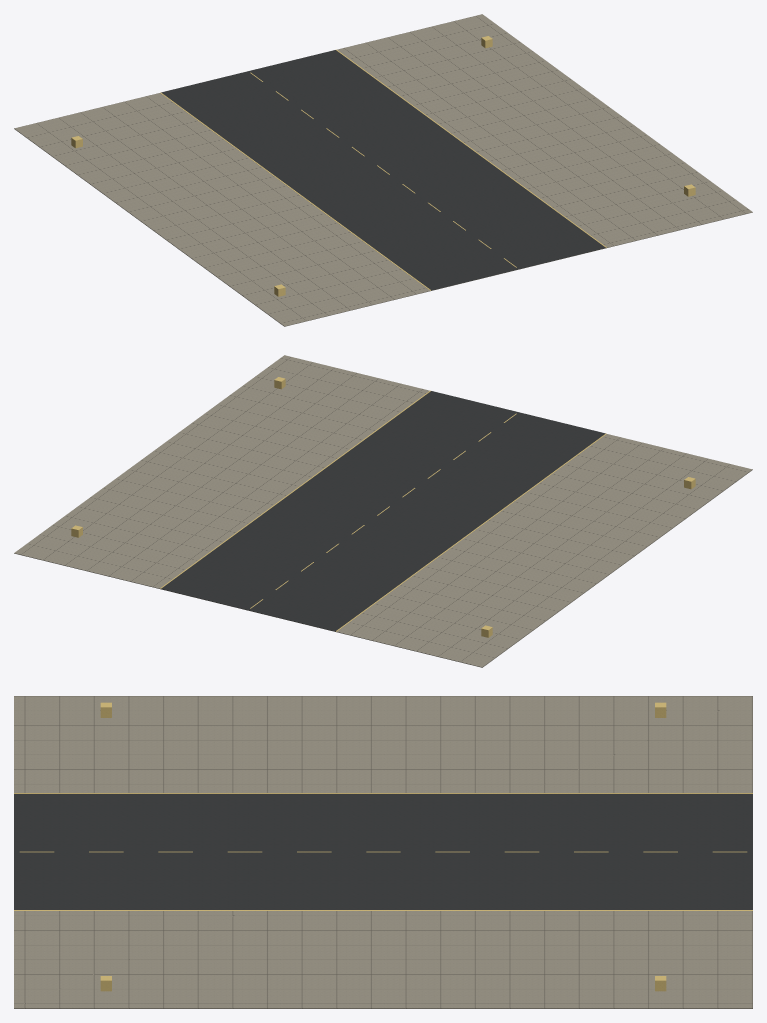
Rendered from industrial_0_-13.glb.
The picture shows the model from 3 angles, top to bottom: view 1: azimuth 30°, elevation 25°; view 2: azimuth 150°, elevation 25°; view 3: azimuth 270°, elevation 25°; orthographic projection. The views are drawn at different scales.
Visible parts, largest first — view 1: Vehicle Test Road 13 / Test apron, Vehicle Test Road 13 / Test road; view 2: Vehicle Test Road 13 / Test apron, Vehicle Test Road 13 / Test road; view 3: Vehicle Test Road 13 / Test apron, Vehicle Test Road 13 / Test road, Vehicle Test Road 13 / Test edge -1, Vehicle Test Road 13 / Test edge 1.
Part boxes in pixels (left/top/right/bottom): Vehicle Test Road 13 / Test apron: left=14, top=14, right=752, bottom=326; Vehicle Test Road 13 / Test road: left=161, top=50, right=605, bottom=290; Vehicle Test Road 13 / Test apron: left=14, top=355, right=752, bottom=667; Vehicle Test Road 13 / Test road: left=161, top=391, right=605, bottom=631; Vehicle Test Road 13 / Test apron: left=14, top=696, right=752, bottom=1008; Vehicle Test Road 13 / Test road: left=14, top=794, right=752, bottom=909; Vehicle Test Road 13 / Test edge -1: left=14, top=793, right=752, bottom=793; Vehicle Test Road 13 / Test edge 1: left=14, top=910, right=752, bottom=910.
Bounding box in the file's own units: 64 × 1.06 × 64.
3 materials, 3 textured.
